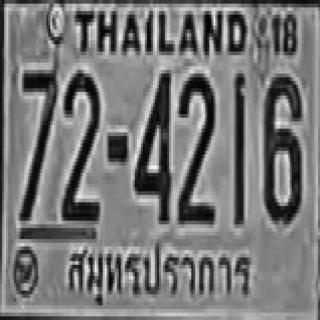N01: (232, 72, 244, 223)
N02: (60, 68, 99, 219), (177, 70, 213, 221)
N04: (133, 66, 169, 221)
N06: (262, 74, 300, 221)
N07: (18, 66, 56, 217)
P57: (64, 238, 253, 309)
